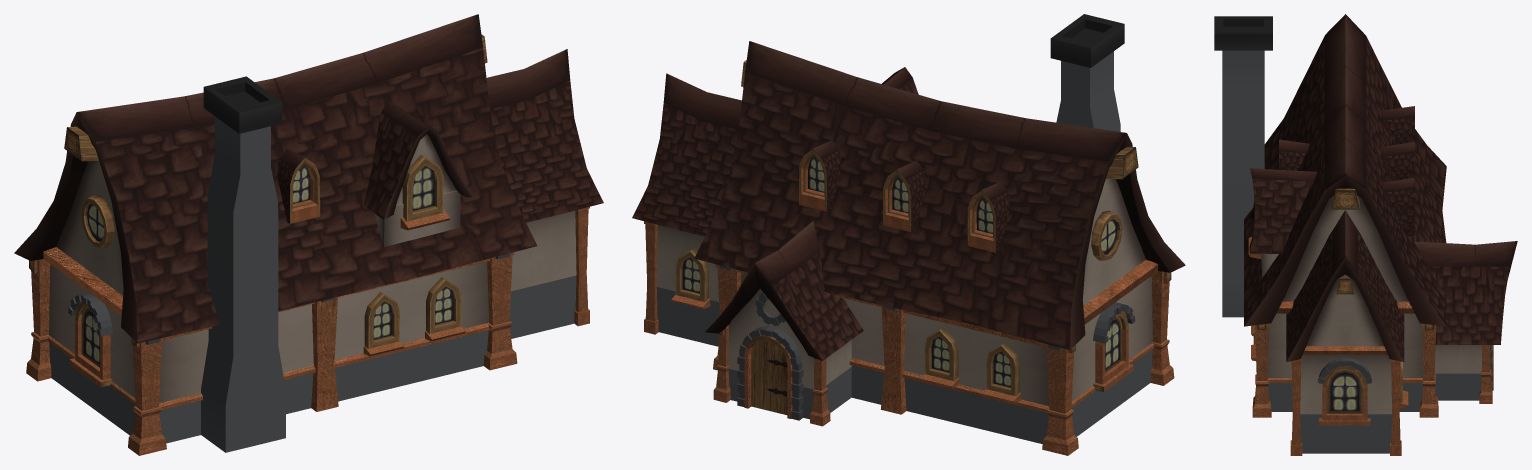
Rendered from fanasty_mod_village_building21.fbx.
The picture shows the model from 3 angles, left to right: view 1: azimuth 30°, elevation 25°; view 2: azimuth 150°, elevation 25°; view 3: azimuth 270°, elevation 25°; orthographic projection. The views are drawn at different scales.
Visible parts, largest first — view 1: village_building_021; view 2: village_building_021; view 3: village_building_021.
Boxes of the visible parts, x1,y1,x2,y2 form: village_building_021: (14,14,603,455); village_building_021: (632,14,1185,455); village_building_021: (1214,14,1517,455).
Bounding box in the file's own units: 15.32 × 10.1 × 9.91.
